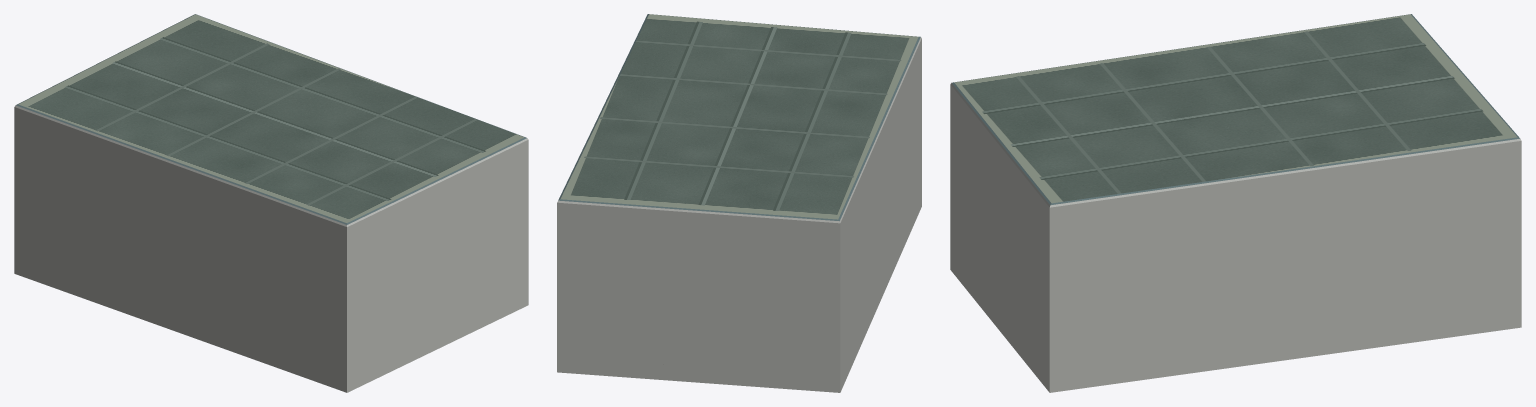
File: fragments.glb
The picture shows the model from 3 angles, left to right: view 1: azimuth 30°, elevation 25°; view 2: azimuth 150°, elevation 25°; view 3: azimuth 270°, elevation 25°; orthographic projection. The views are drawn at different scales.
Visible parts, largest first — view 1: SM_gh54_Fragment_020, SM_gh54_Fragment_010, SM_gh54_Fragment_002, SM_gh54_Fragment_022, SM_gh54_Fragment_026, SM_gh54_Fragment_031, SM_gh54_Fragment_036, SM_gh54_Fragment_008, SM_gh54_Fragment_006, SM_gh54_Fragment_015, SM_gh54_Fragment_042, SM_gh54_Fragment_051 (+20 smaller); view 2: SM_gh54_Fragment_001, SM_gh54_Fragment_053, SM_gh54_Fragment_016, SM_gh54_Fragment_044, SM_gh54_Fragment_057, SM_gh54_Fragment_043, SM_gh54_Fragment_002, SM_gh54_Fragment_005, SM_gh54_Fragment_006, SM_gh54_Fragment_003, SM_gh54_Fragment_022, SM_gh54_Fragment_020 (+22 smaller); view 3: SM_gh54_Fragment_011, SM_gh54_Fragment_038, SM_gh54_Fragment_041, SM_gh54_Fragment_032, SM_gh54_Fragment_023, SM_gh54_Fragment_004, SM_gh54_Fragment_028, SM_gh54_Fragment_005, SM_gh54_Fragment_062, SM_gh54_Fragment_054, SM_gh54_Fragment_001, SM_gh54_Fragment_050 (+23 smaller).
Boxes of the visible parts, x1,y1,x2,y2 form: SM_gh54_Fragment_020: [225, 169, 328, 277]; SM_gh54_Fragment_010: [252, 272, 367, 387]; SM_gh54_Fragment_002: [158, 133, 277, 251]; SM_gh54_Fragment_022: [87, 105, 192, 234]; SM_gh54_Fragment_026: [429, 153, 506, 273]; SM_gh54_Fragment_031: [126, 215, 229, 331]; SM_gh54_Fragment_036: [298, 206, 388, 321]; SM_gh54_Fragment_008: [324, 174, 439, 277]; SM_gh54_Fragment_006: [14, 89, 130, 164]; SM_gh54_Fragment_015: [177, 261, 278, 368]; SM_gh54_Fragment_042: [334, 291, 422, 392]; SM_gh54_Fragment_051: [14, 199, 80, 293]; SM_gh54_Fragment_001: [557, 166, 662, 276]; SM_gh54_Fragment_053: [565, 275, 681, 379]; SM_gh54_Fragment_016: [659, 251, 782, 330]; SM_gh54_Fragment_044: [672, 182, 791, 255]; SM_gh54_Fragment_057: [773, 228, 850, 325]; SM_gh54_Fragment_043: [657, 318, 754, 386]; SM_gh54_Fragment_002: [798, 90, 891, 194]; SM_gh54_Fragment_005: [628, 15, 737, 73]; SM_gh54_Fragment_006: [771, 176, 859, 244]; SM_gh54_Fragment_003: [742, 318, 831, 392]; SM_gh54_Fragment_022: [783, 140, 876, 248]; SM_gh54_Fragment_020: [833, 52, 913, 180]; SM_gh54_Fragment_011: [1354, 140, 1464, 282]; SM_gh54_Fragment_038: [1140, 152, 1250, 278]; SM_gh54_Fragment_041: [1036, 197, 1146, 305]; SM_gh54_Fragment_032: [1168, 244, 1278, 362]; SM_gh54_Fragment_023: [1083, 269, 1184, 379]; SM_gh54_Fragment_004: [1234, 152, 1324, 291]; SM_gh54_Fragment_028: [1432, 180, 1521, 281]; SM_gh54_Fragment_005: [1032, 143, 1160, 221]; SM_gh54_Fragment_062: [1275, 133, 1394, 227]; SM_gh54_Fragment_054: [1285, 226, 1398, 322]; SM_gh54_Fragment_001: [1419, 93, 1521, 186]; SM_gh54_Fragment_050: [1020, 272, 1094, 392].
Bounding box in the file's own units: 1.75 × 0.8052 × 2.2.
Materials: 4 (1 with a texture image).
